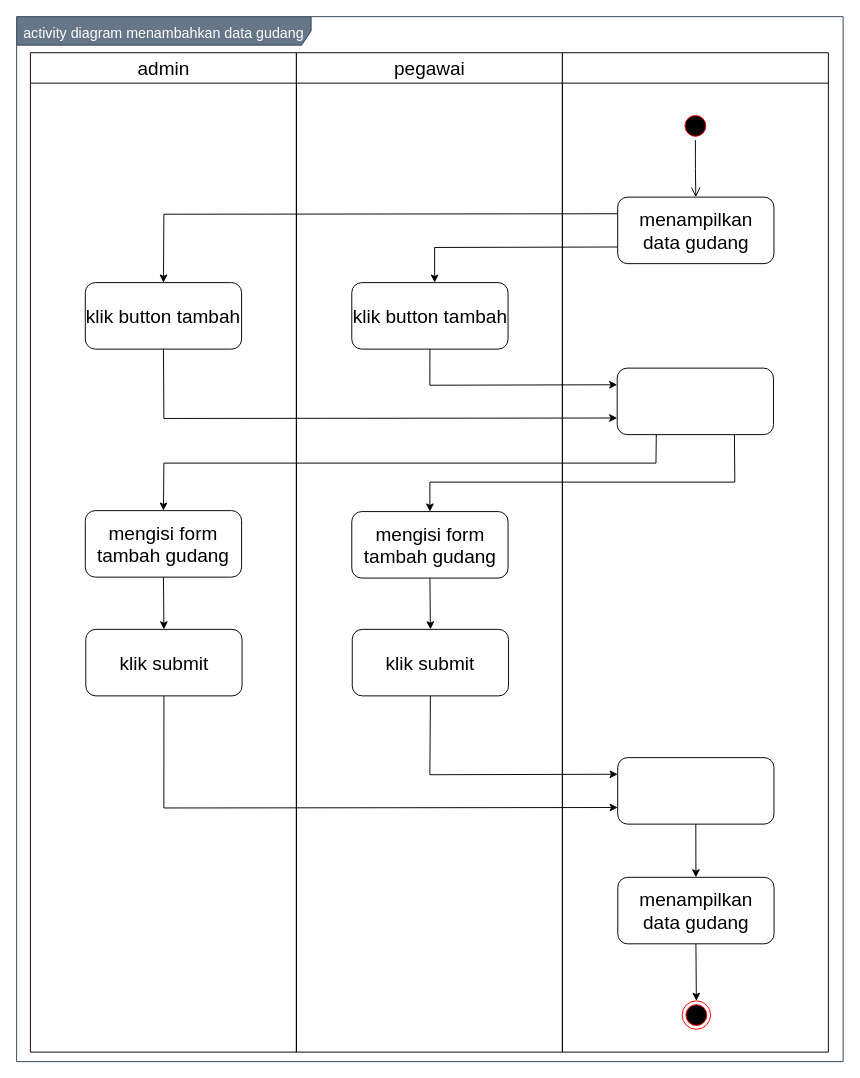
Image size: 860x1078. Some labels were removed from this diagram. Each missing label, with the box of its shape:
menampilkan form tambah gudang: (616, 367, 773, 435)
menyimpan ke database: (617, 757, 774, 824)
sistem: (561, 52, 828, 1052)
